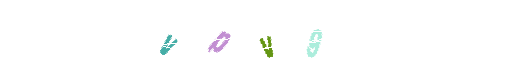9: (227, 0, 307, 80)
P: (215, 0, 295, 80)
V: (127, 0, 207, 80), (220, 0, 300, 80)
